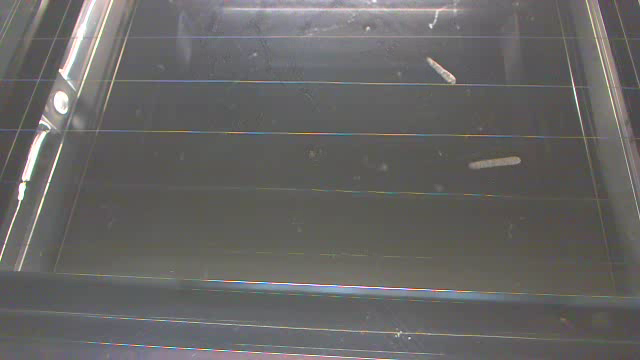alpha: (466, 151, 524, 174), (425, 54, 457, 87)
